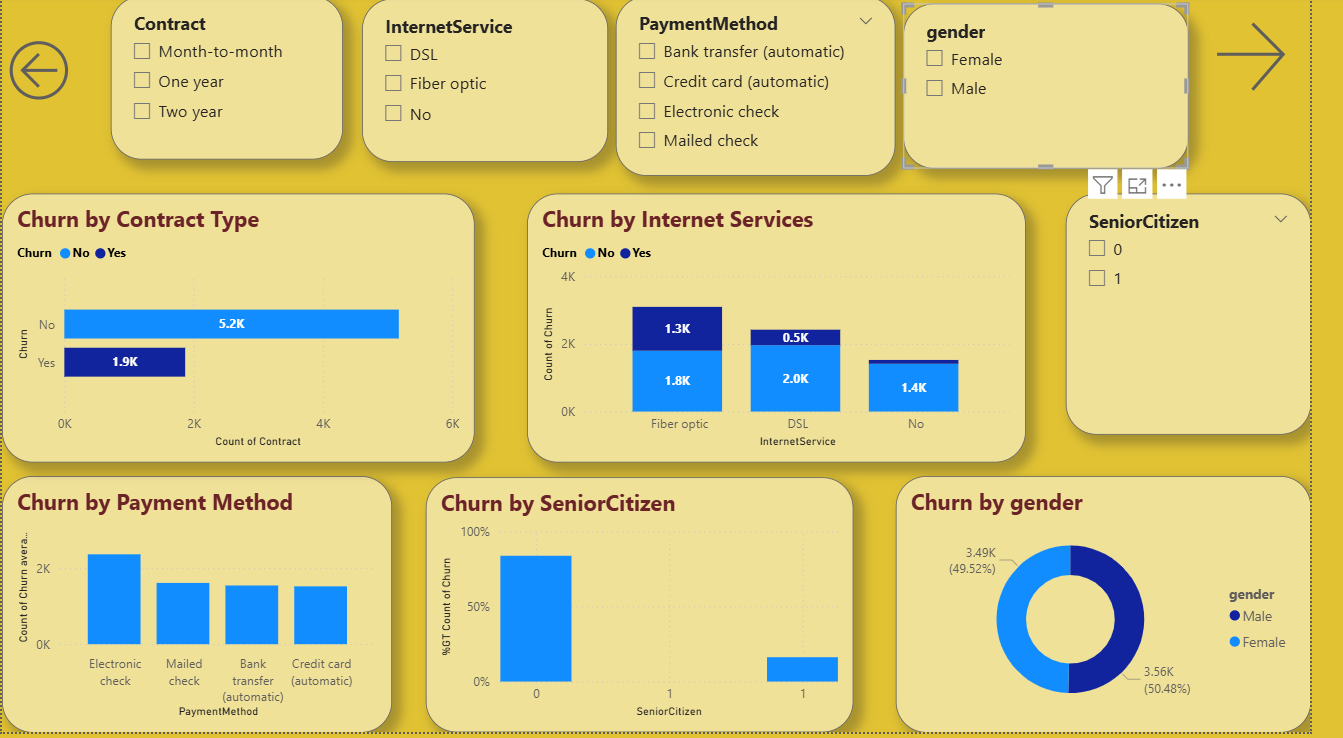

The dashboard page shown, as its layout file describes it:
{"tool":"powerbi","page":{"name":"Customer Segmentation","canvas":[1280,720],"ordinal":1},"visuals":[{"type":"columnChart","title":"Churn by Payment Method","fields":{"Category":["telco customer churn dataset (2).PaymentMethod"],"Y":["telco customer churn dataset (2).Count of Churn average per PaymentMethod"]},"box":[0,469.3,381.5,251.1],"z":0},{"type":"columnChart","title":"Churn by Internet Services","fields":{"Category":["telco customer churn dataset (2).InternetService"],"Y":["CountNonNull(telco customer churn dataset (2).Churn)"],"Series":["telco customer churn dataset (2).Churn"]},"box":[513.6,193.2,487.9,262.9],"z":1},{"type":"barChart","title":"Churn by Contract Type","fields":{"Y":["CountNonNull(telco customer churn dataset (2).Contract)"],"Series":["telco customer churn dataset (2).Churn"],"Category":["telco customer churn dataset (2).Churn"]},"box":[0,193.2,462.2,262.9],"z":2},{"type":"clusteredColumnChart","title":"Churn by SeniorCitizen","fields":{"Category":["telco customer churn dataset (2).SeniorCitizen"],"Y":["CountNonNull(telco customer churn dataset (2).Churn)"]},"box":[414.5,470.8,418.2,249.5],"z":3},{"type":"donutChart","title":"Churn by gender","fields":{"Category":["telco customer churn dataset (2).gender"],"Y":["CountNonNull(telco customer churn dataset (2).Churn)"]},"box":[874.1,469.3,406.2,251.1],"z":4},{"type":"slicer","fields":{"Values":["telco customer churn dataset (2).Contract"]},"box":[106.4,0,227.4,160.2],"z":5},{"type":"slicer","fields":{"Values":["telco customer churn dataset (2).InternetService"]},"box":[352.2,2.4,240.9,160.2],"z":6},{"type":"slicer","fields":{"Values":["telco customer churn dataset (2).PaymentMethod"]},"box":[600.4,0,273.9,176.1],"z":7},{"type":"slicer","fields":{"Values":["telco customer churn dataset (2).gender"]},"box":[881.7,7.3,278.8,161.4],"z":8},{"type":"slicer","fields":{"Values":["telco customer churn dataset (2).SeniorCitizen"]},"box":[1040.6,193.2,239.7,236],"z":9},{"type":"actionButton","box":[0,36.7,106.4,72.1],"z":10},{"type":"actionButton","box":[1180,18.3,100.3,81.9],"z":11}]}

Visuals, with their boxes in screenshot pixels (x1, y1, x2, y2), scaled from the page's 1280x720 canvas onto the 1343x738 screenshot:
"Churn by Payment Method" columnChart: [0,481,400,737]
"Churn by Internet Services" columnChart: [539,198,1051,468]
"Churn by Contract Type" barChart: [0,198,485,468]
"Churn by SeniorCitizen" clusteredColumnChart: [435,483,874,737]
"Churn by gender" donutChart: [917,481,1342,737]
slicer - telco customer churn dataset (2).Contract: [112,0,350,164]
slicer - telco customer churn dataset (2).InternetService: [370,2,622,167]
slicer - telco customer churn dataset (2).PaymentMethod: [630,0,917,181]
slicer - telco customer churn dataset (2).gender: [925,7,1218,173]
slicer - telco customer churn dataset (2).SeniorCitizen: [1092,198,1342,440]
actionButton: [0,38,112,112]
actionButton: [1238,19,1342,103]
